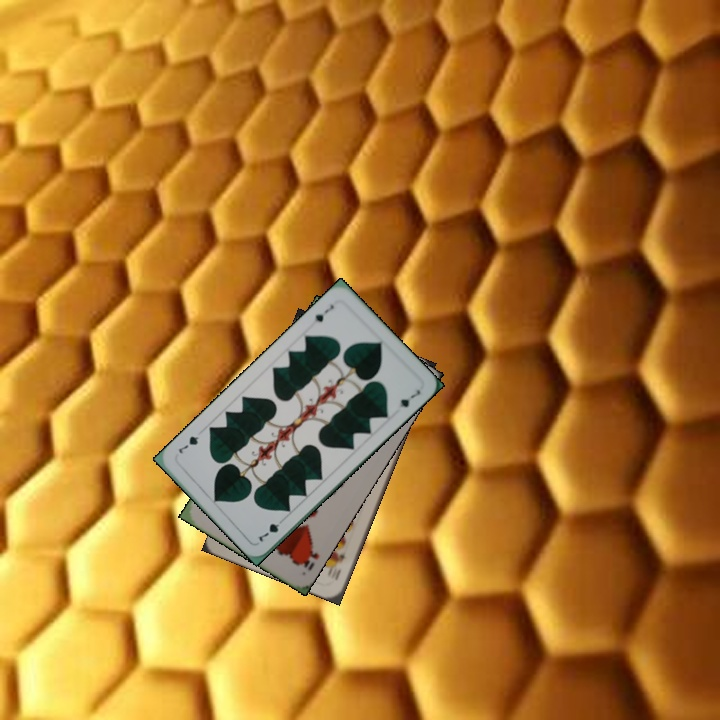E10: (325, 550, 348, 583)
G7: (255, 514, 287, 545), (310, 300, 336, 324)
HO: (295, 538, 322, 574)
